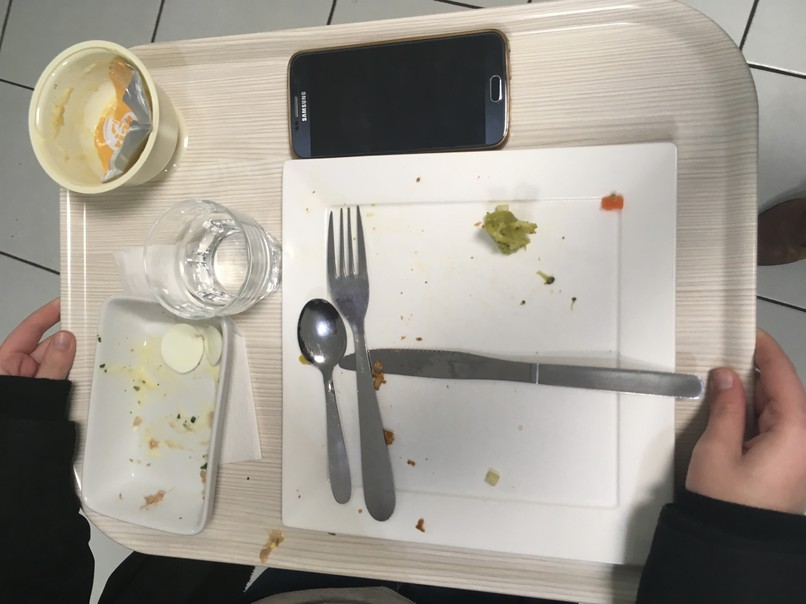cup: (139, 200, 290, 322)
cutlery: (319, 203, 403, 533), (337, 343, 704, 406), (287, 297, 360, 509)
orga: (148, 320, 230, 386), (471, 207, 543, 261)
trash: (13, 33, 184, 198), (112, 242, 227, 298), (219, 327, 264, 466)
